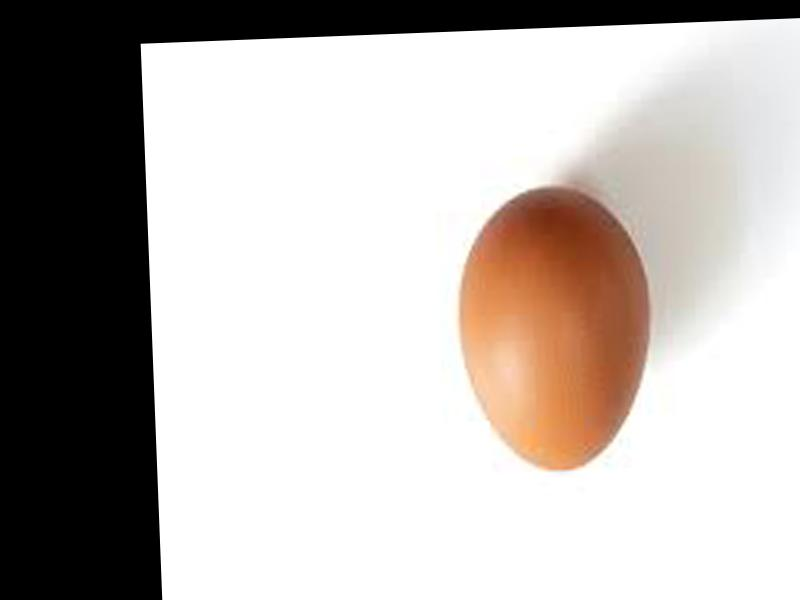Eggs: (457, 184, 654, 476)
